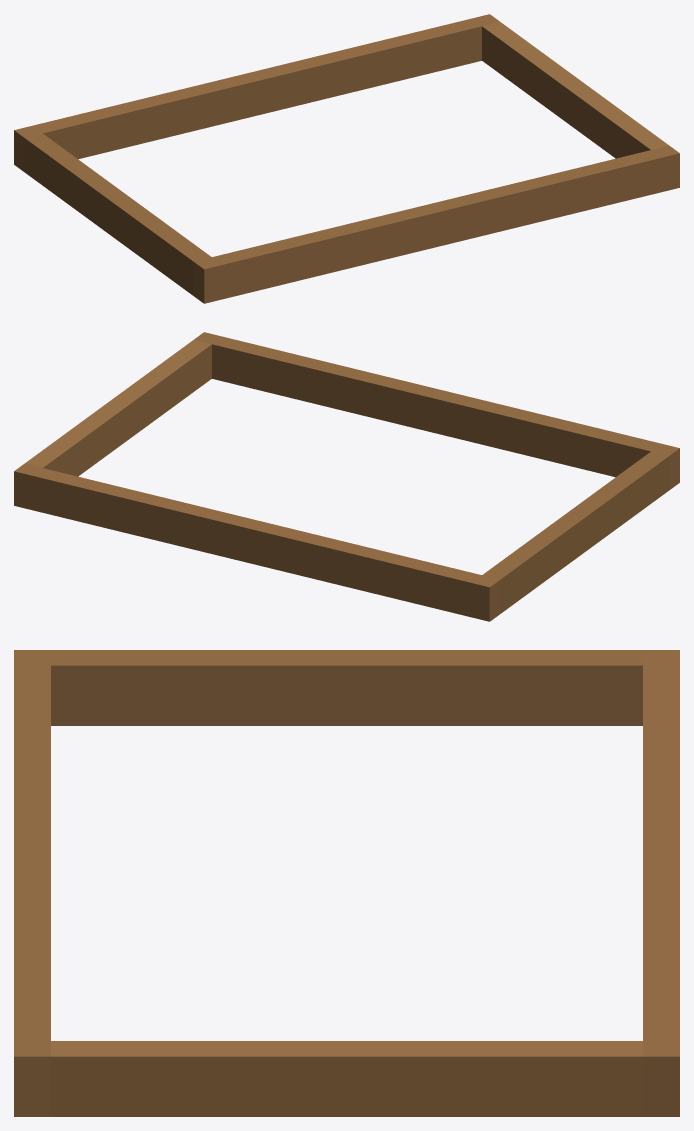
File: Park_SandboxFrame.fbx
The picture shows the model from 3 angles, top to bottom: view 1: azimuth 30°, elevation 25°; view 2: azimuth 150°, elevation 25°; view 3: azimuth 270°, elevation 25°; orthographic projection. The views are drawn at different scales.
Visible parts, largest first — view 1: Park_SandboxFrame; view 2: Park_SandboxFrame; view 3: Park_SandboxFrame.
Boxes of the visible parts, x1,y1,x2,y2 form: Park_SandboxFrame: [14, 14, 679, 303]; Park_SandboxFrame: [14, 332, 679, 621]; Park_SandboxFrame: [14, 650, 679, 1116].
Size of the model in its own units: 26 by 1.8 by 18.
